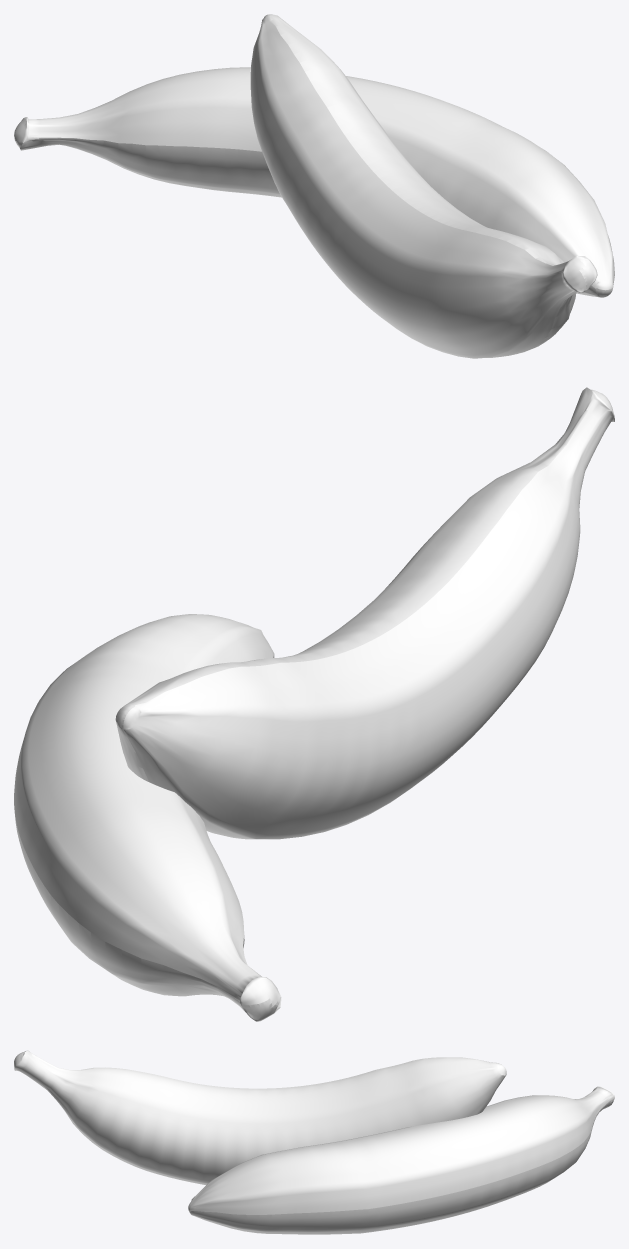
The model's file is banana_3ds.dae.
3 views of the same model, one above another, from view 1: azimuth 30°, elevation 25°; view 2: azimuth 150°, elevation 25°; view 3: azimuth 270°, elevation 25° (orthographic). The views are drawn at different scales.
Parts seen in each view (by area): view 1: Box03, Box02; view 2: Box03, Box02; view 3: Box02, Box03.
Boxes of the visible parts, box(x1,y1,x2,y2) form: Box03: box(250, 14, 597, 358); Box02: box(14, 67, 614, 297); Box03: box(115, 387, 614, 839); Box02: box(14, 614, 281, 1021); Box02: box(188, 1086, 614, 1234); Box03: box(14, 1050, 506, 1184).
Bounding box in the file's own units: 2757 × 5712 × 1407.
1 material, 1 textured.
